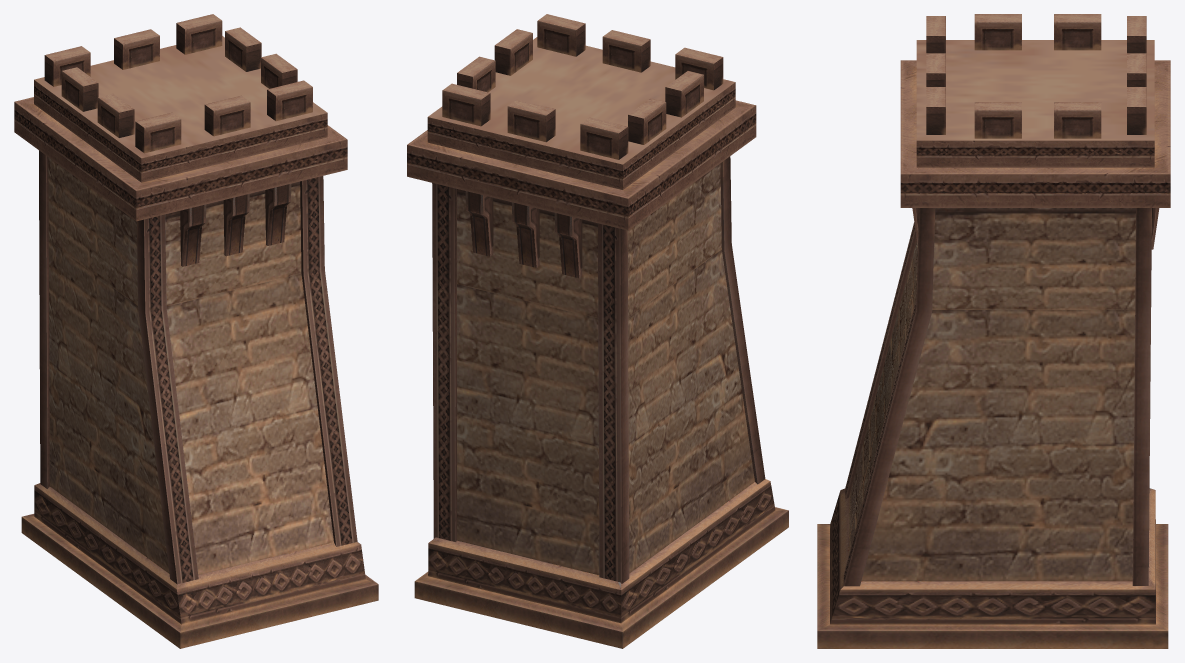
The model's file is SC_huangmo_10.FBX.
3 renders of one model, left to right at view 1: azimuth 30°, elevation 25°; view 2: azimuth 150°, elevation 25°; view 3: azimuth 270°, elevation 25°, orthographic. The views are drawn at different scales.
Visible parts, largest first — view 1: SC_huangmo_10; view 2: SC_huangmo_10; view 3: SC_huangmo_10.
Part boxes in pixels (box(x1,y1,x2,y2)): SC_huangmo_10: box(14, 14, 378, 648); SC_huangmo_10: box(407, 14, 788, 648); SC_huangmo_10: box(817, 14, 1170, 648).
Bounding box in the file's own units: 443 × 964 × 579.
